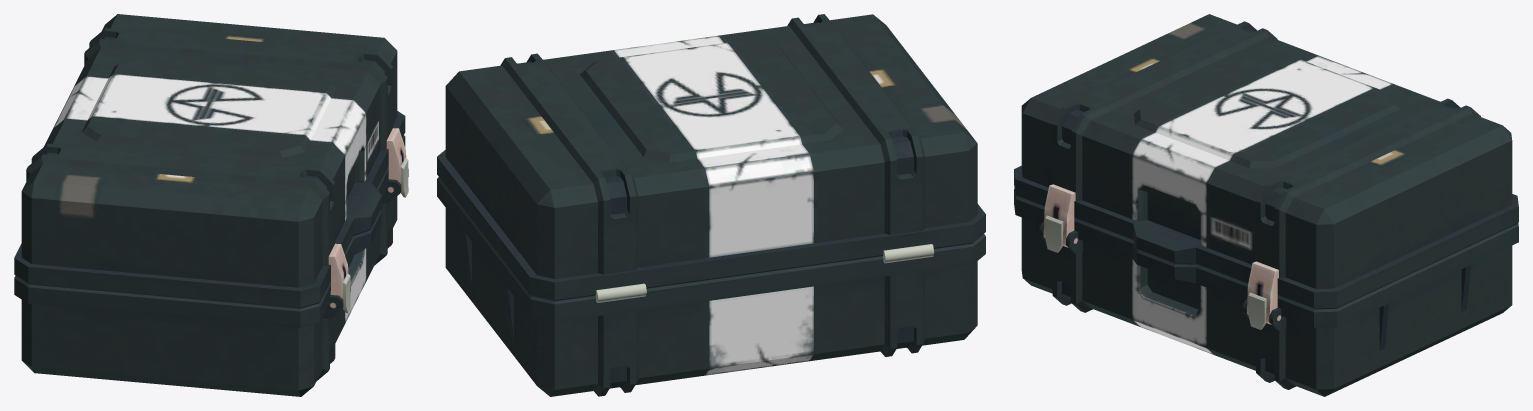
The model's file is AirSupply (3).fbx.
3 renders of one model, left to right at view 1: azimuth 30°, elevation 25°; view 2: azimuth 150°, elevation 25°; view 3: azimuth 270°, elevation 25°, orthographic. The views are drawn at different scales.
Visible parts, largest first — view 1: Box_upper, Crate, Lock_R_01 1, Lock_L_01 1; view 2: Box_upper, Crate; view 3: Box_upper, Crate, Lock_L_01 1, Lock_R_01 1, Lock_R_02 1, Lock_L_02 1.
Part boxes in pixels (x1,y1,x2,y2): Box_upper: (14,14,405,308); Crate: (14,135,408,396); Lock_R_01 1: (386,128,406,189); Lock_L_01 1: (328,243,348,305); Box_upper: (437,14,985,302); Crate: (437,177,985,396); Box_upper: (1014,14,1518,309); Crate: (1014,189,1518,396); Lock_L_01 1: (1043,184,1075,247); Lock_R_01 1: (1247,261,1278,324); Lock_R_02 1: (1248,292,1266,329); Lock_L_02 1: (1045,215,1063,252).
Bounding box in the file's own units: 1.55 × 0.682 × 1.58.
2 materials, 2 textured.
